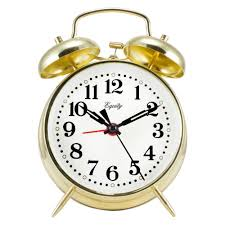alarm_clock: (31, 8, 189, 217)
